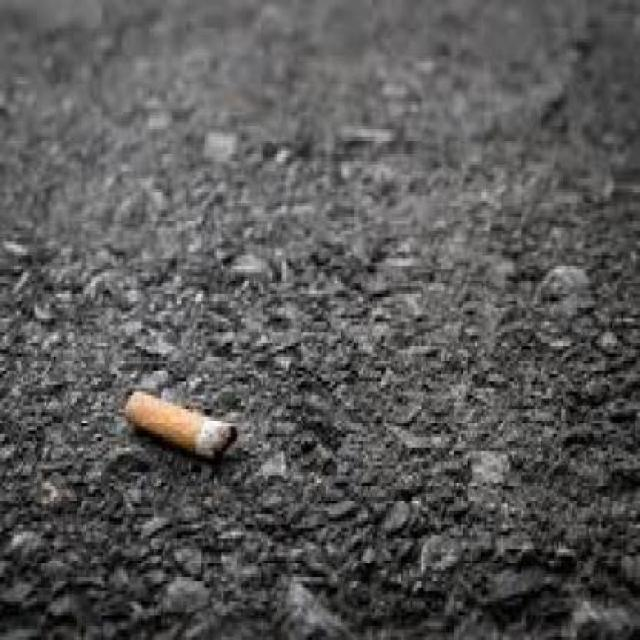cigarette: (119, 382, 246, 458)
